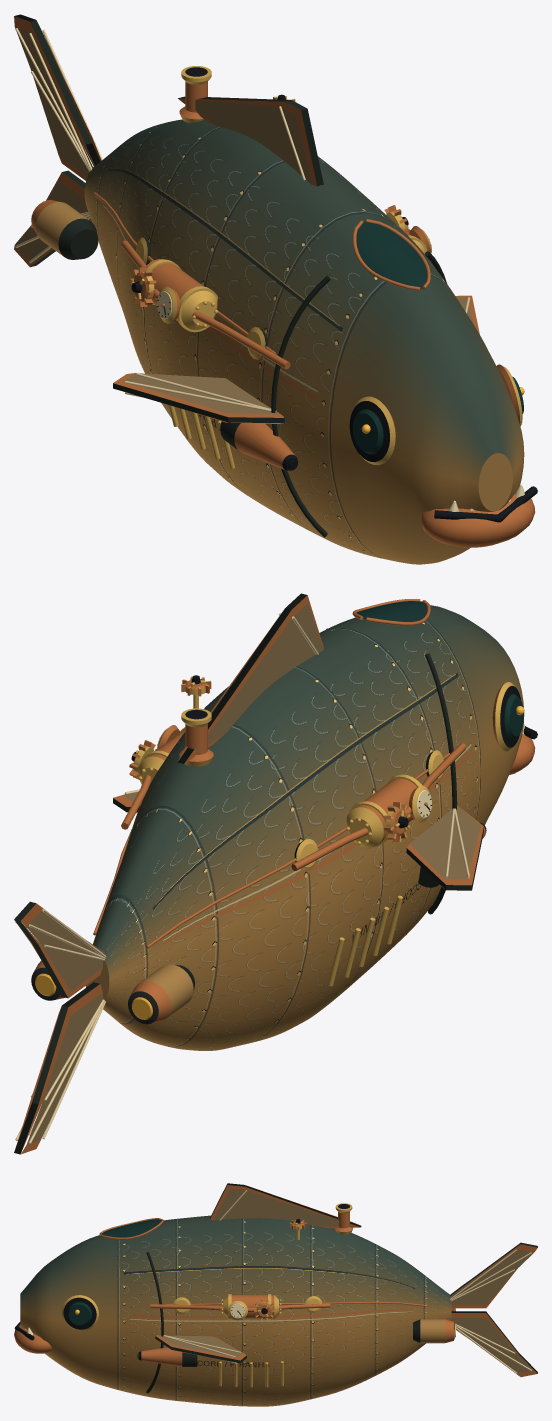
The picture shows the model from 3 angles, top to bottom: view 1: azimuth 30°, elevation 25°; view 2: azimuth 150°, elevation 25°; view 3: azimuth 270°, elevation 25°; orthographic projection. The views are drawn at different scales.
Visible parts, largest first — view 1: piranha_hull; view 2: piranha_hull; view 3: piranha_hull.
Part boxes in pixels (x1,y1,x2,y2): piranha_hull: [14, 14, 537, 564]; piranha_hull: [14, 593, 537, 1154]; piranha_hull: [14, 1183, 537, 1406].
Size of the model in its own units: 6.42 by 6.94 by 15.
1 material, 1 textured.
